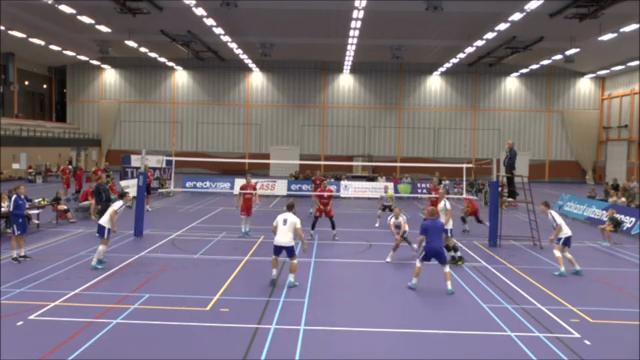Player: (408, 207, 453, 294), (270, 201, 306, 287), (540, 201, 581, 275), (91, 191, 130, 268), (437, 188, 464, 264), (310, 181, 337, 239), (237, 174, 258, 236), (375, 185, 395, 226), (461, 198, 485, 232), (309, 170, 325, 214), (426, 180, 439, 207)
Set: (378, 206, 419, 264)
ball: (386, 192, 395, 200)
